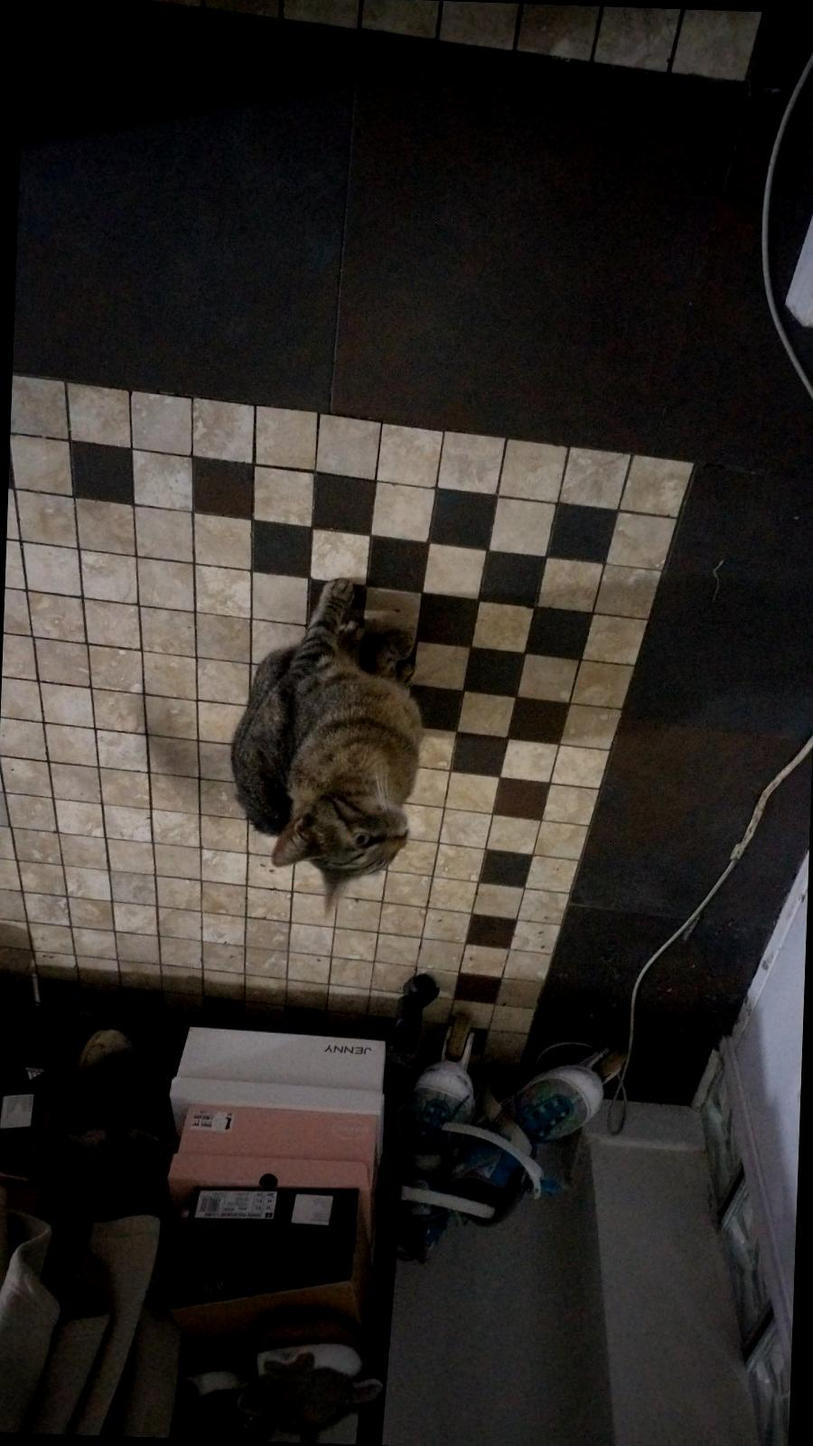macka: (224, 580, 431, 921)
